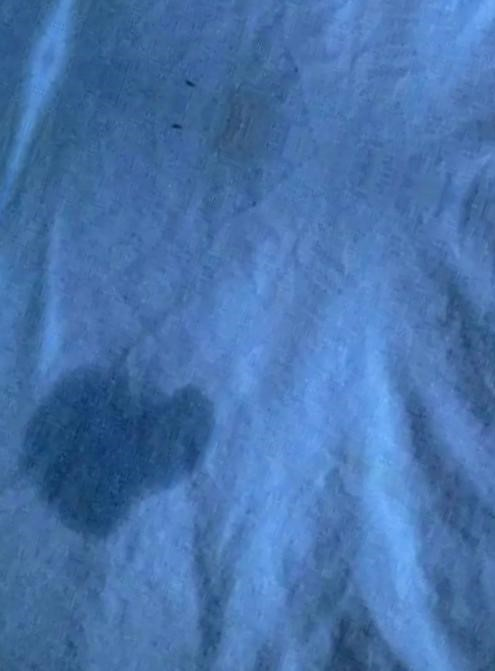stain: (17, 361, 229, 549)
